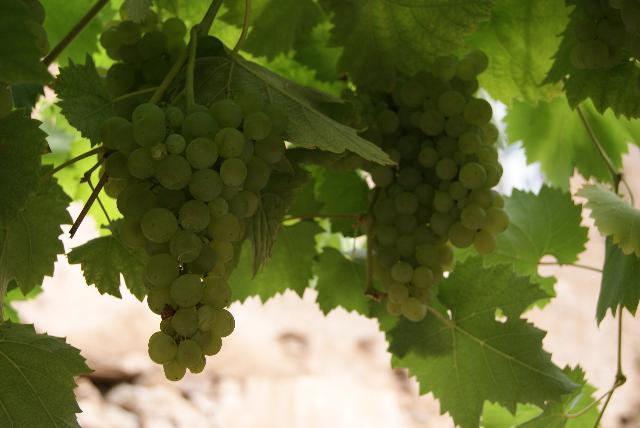grapes: (100, 90, 288, 380), (355, 79, 455, 320), (400, 50, 509, 251)
